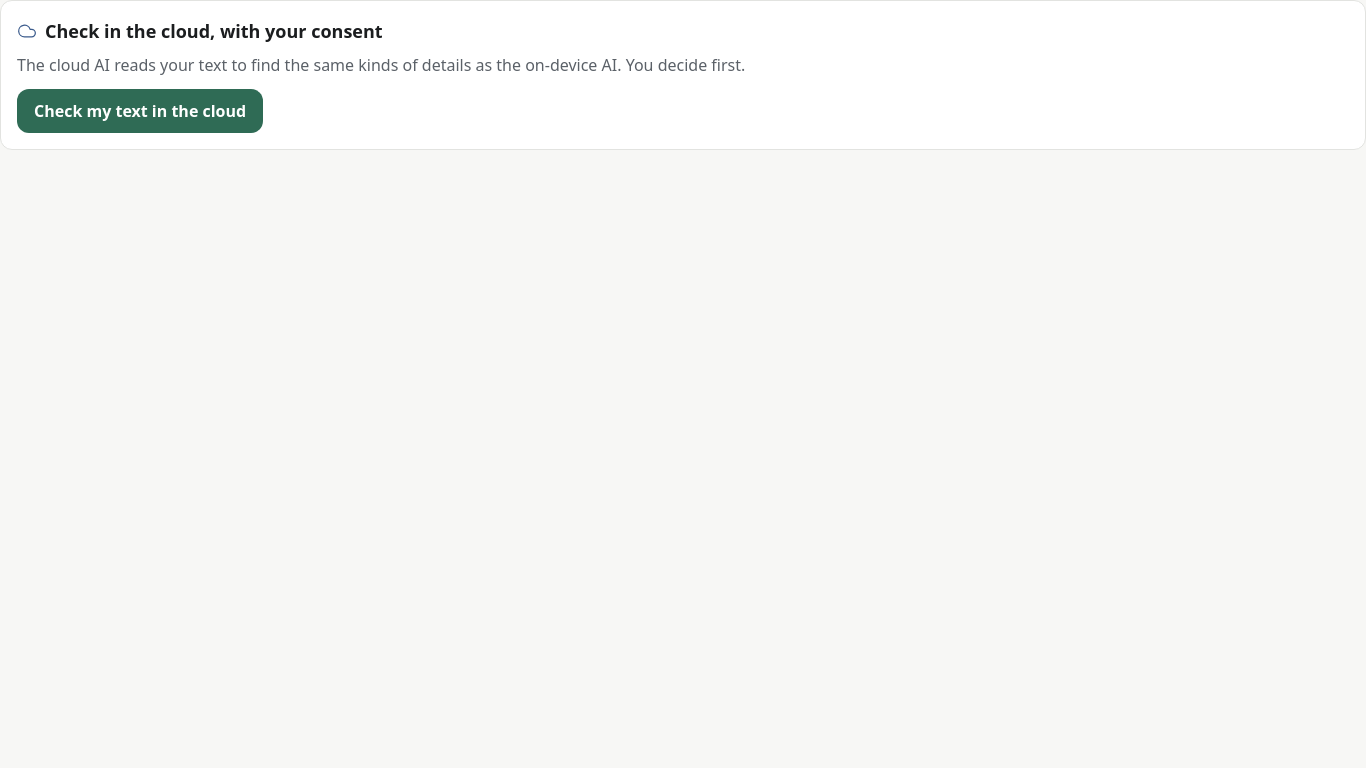
CloudScanOption › sends nothing when the reporter cancels the dialog
Click the button "Check my text in the cloud": (140, 111) [17,89,263,133]
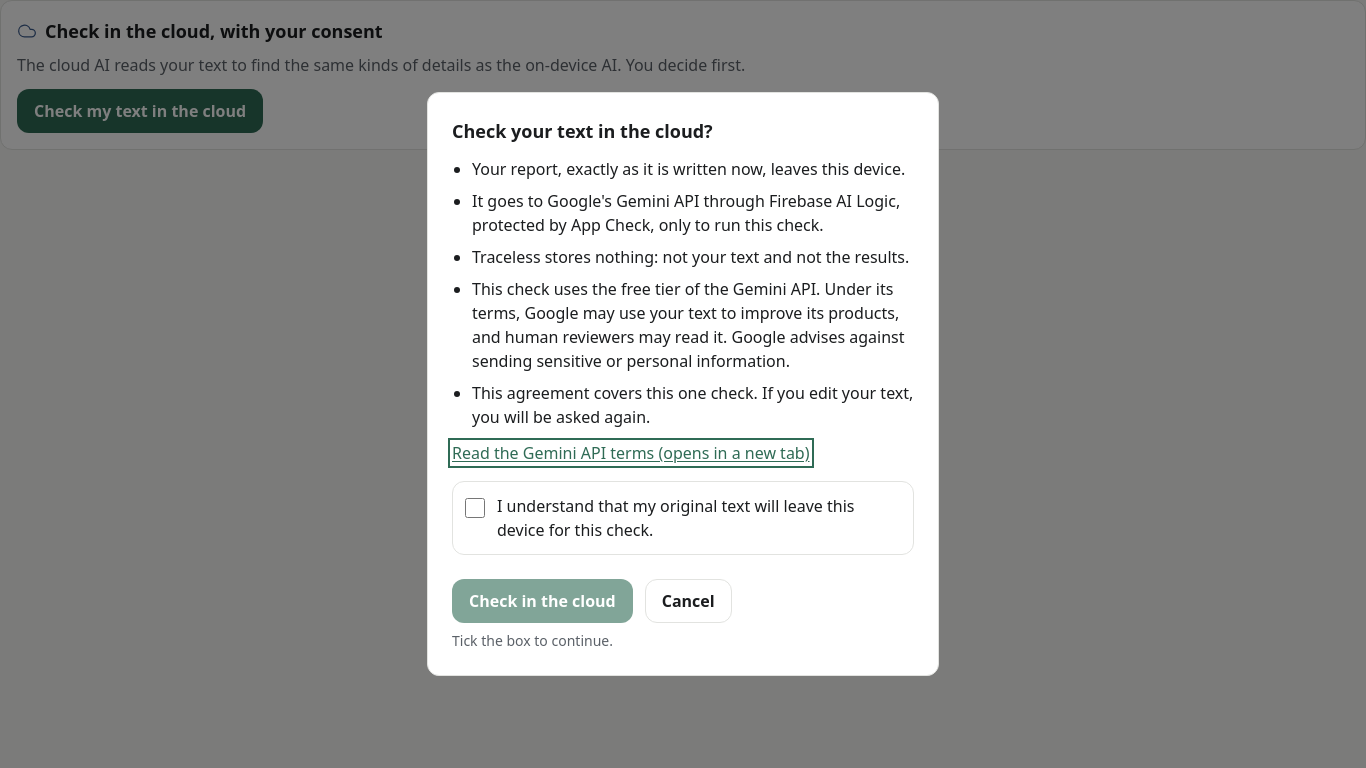
Click the button "Cancel": (688, 601) [645,579,732,623]
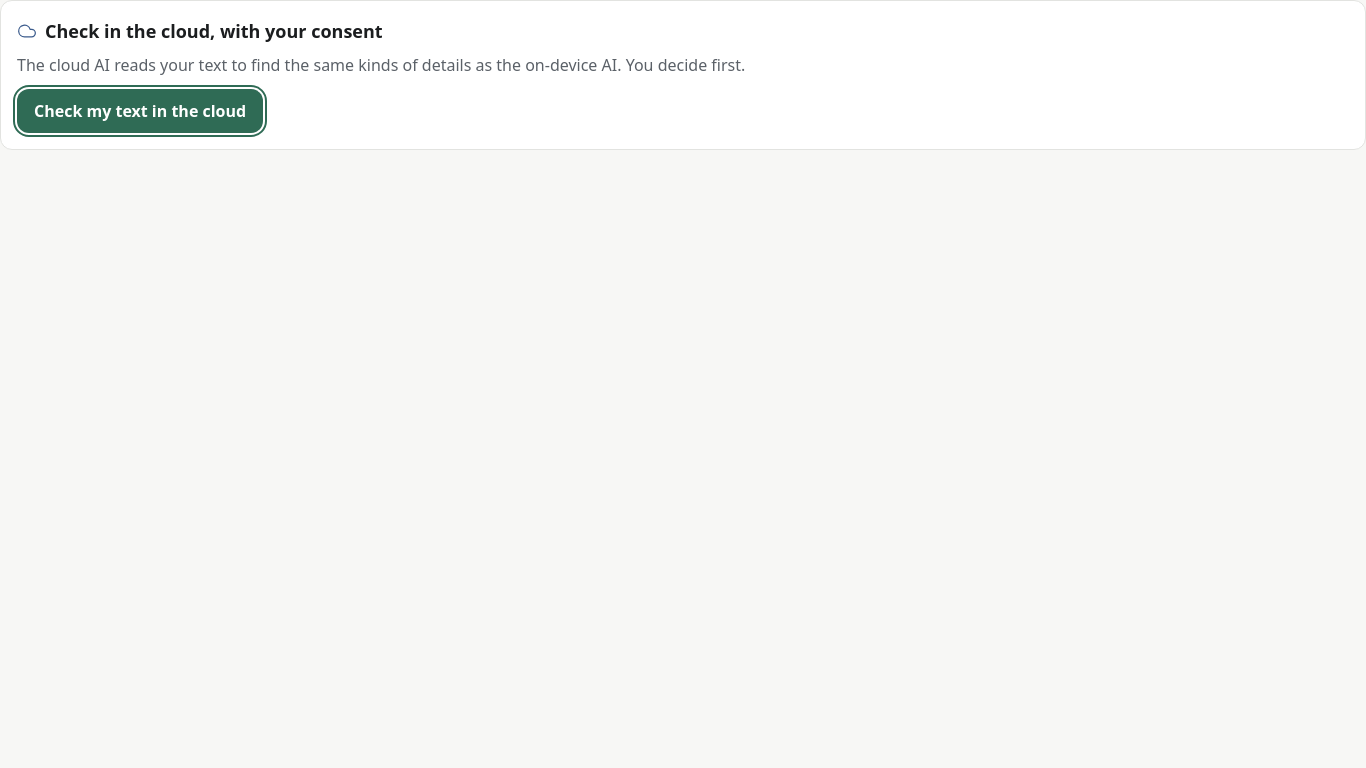
Expected: the checkbox is gone
